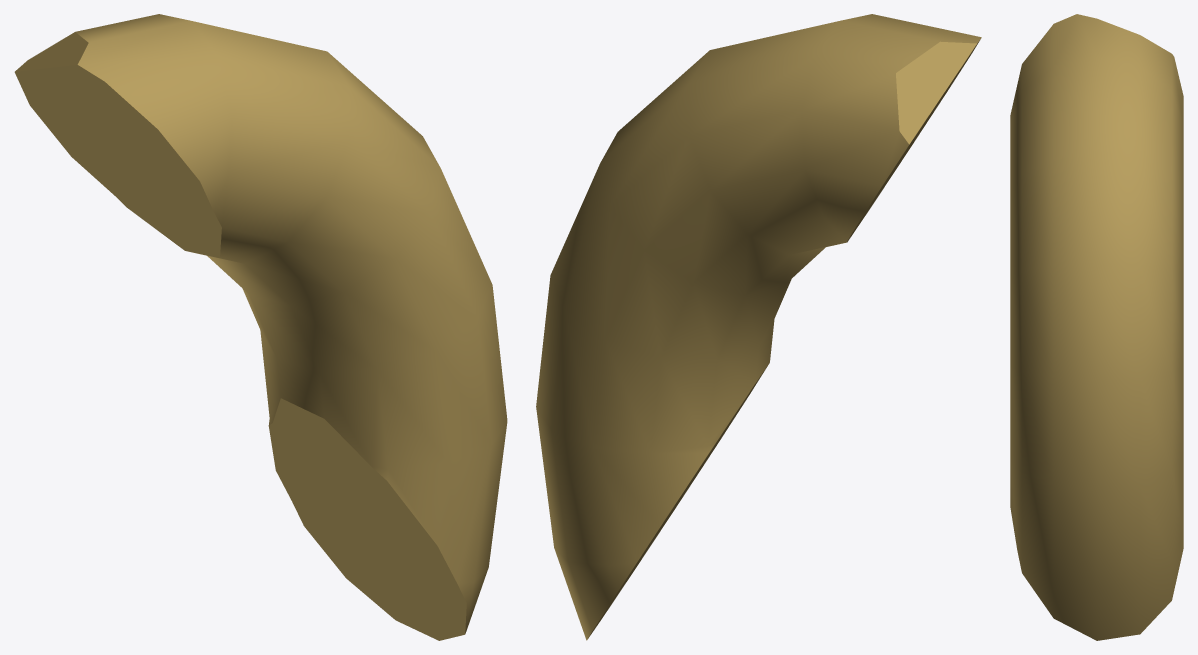
Rendered from broken_pot_cell_018.fbx.
The picture shows the model from 3 angles, left to right: view 1: azimuth 30°, elevation 25°; view 2: azimuth 150°, elevation 25°; view 3: azimuth 270°, elevation 25°; orthographic projection. The views are drawn at different scales.
Visible parts, largest first — view 1: broken_pot_cell.018; view 2: broken_pot_cell.018; view 3: broken_pot_cell.018.
Part boxes in pixels (x1=…): broken_pot_cell.018: x1=14, y1=14, x2=507, y2=640; broken_pot_cell.018: x1=536, y1=14, x2=981, y2=640; broken_pot_cell.018: x1=1010, y1=14, x2=1183, y2=640.
Bounding box in the file's own units: 0.9966 × 1.52 × 0.48.
